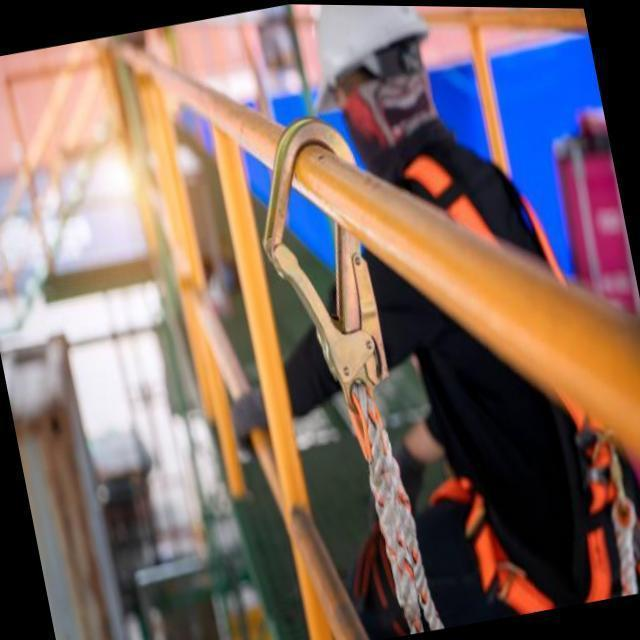Harness: (264, 118, 444, 634)
